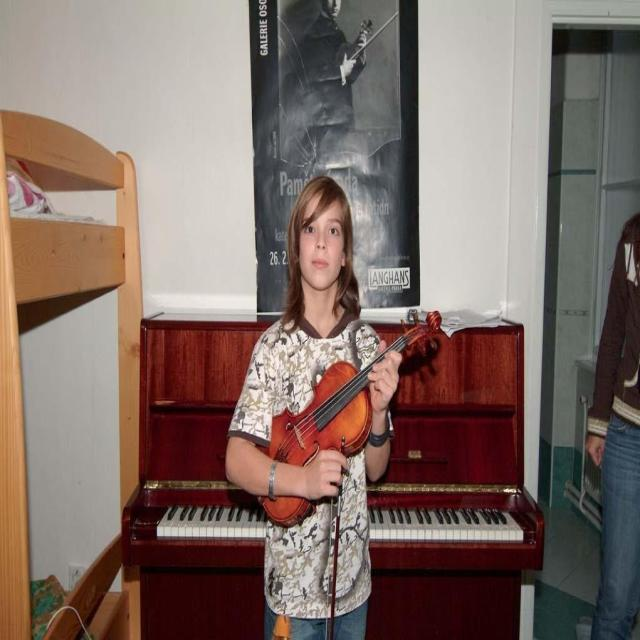violin: (251, 306, 444, 527)
